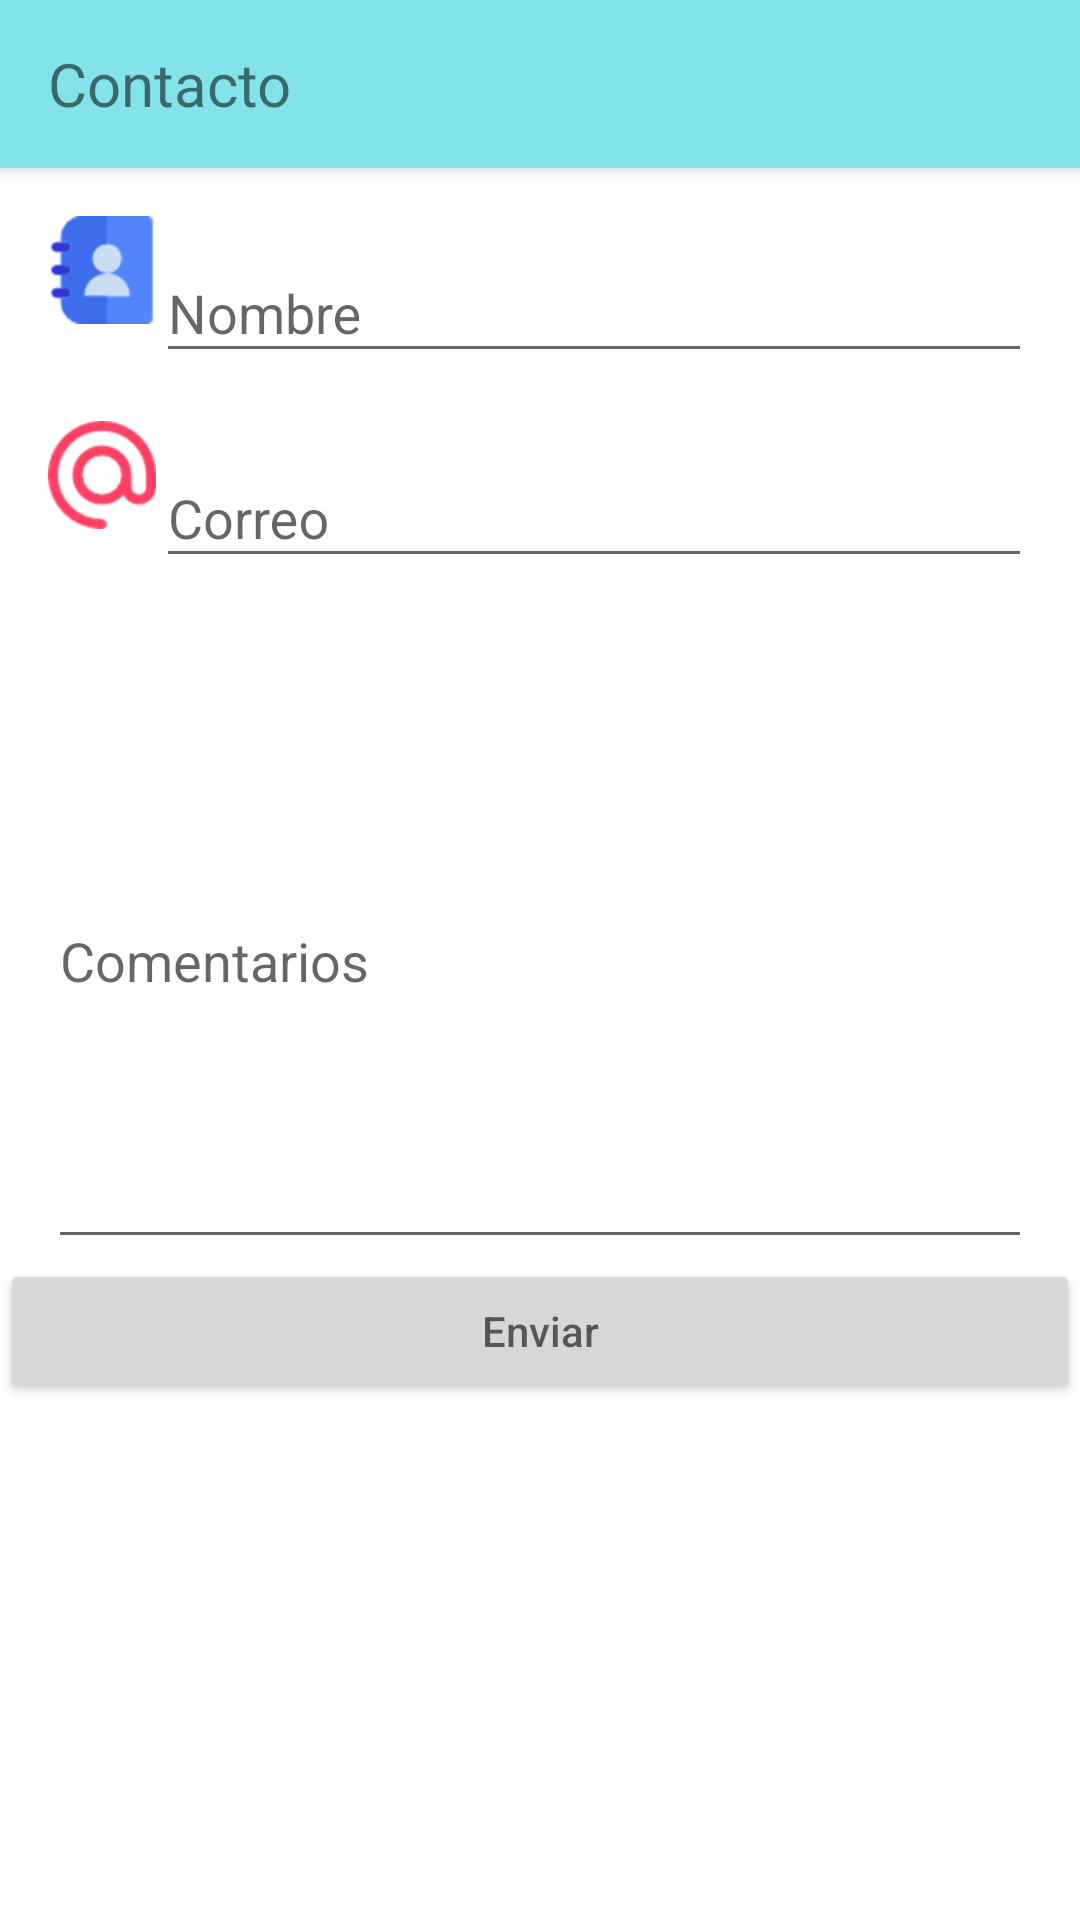

Screen size 1080 x 1920. Icon name, then its box in pixels as (x1, y1, x2, y2):
arroba: (48, 421, 156, 529)
phone book: (51, 216, 154, 324)
